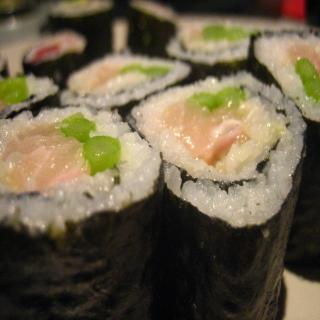Sushi: (0, 0, 320, 320), (129, 70, 305, 319)
